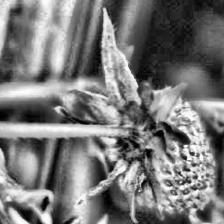Gray Mold: (53, 101, 192, 222)
